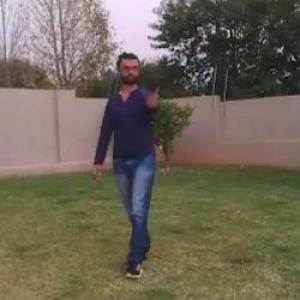takeoff-hand: (138, 74, 166, 117)
